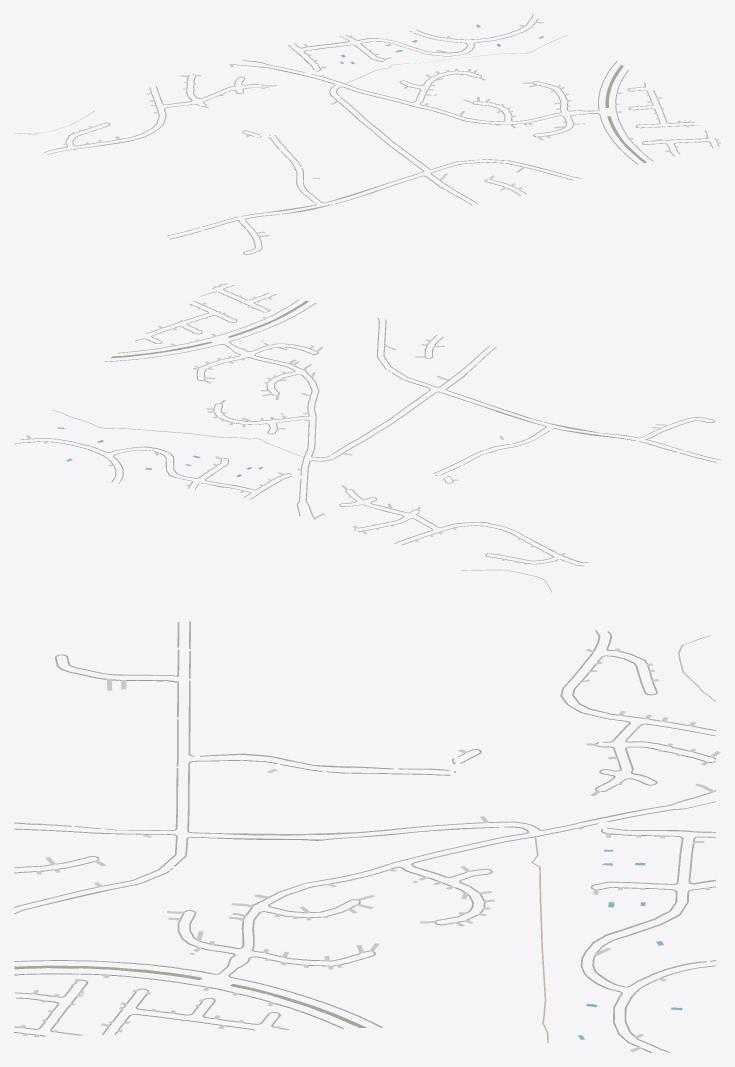
Rendered from ground_r3_c1.glb.
3 views of the same model, one above another, from view 1: azimuth 30°, elevation 25°; view 2: azimuth 150°, elevation 25°; view 3: azimuth 270°, elevation 25° (orthographic). The views are drawn at different scales.
Visible parts, largest first — view 1: sidewalks, driveways; view 2: sidewalks, driveways; view 3: sidewalks, driveways, medians.
Boxes of the visible parts, x1=… form: sidewalks: x1=44, y1=14, x2=719, y2=254; driveways: x1=64, y1=21, x2=720, y2=237; sidewalks: x1=14, y1=283, x2=720, y2=566; driveways: x1=26, y1=284, x2=668, y2=564; sidewalks: x1=14, y1=621, x2=715, y2=1052; driveways: x1=20, y1=648, x2=720, y2=1051; medians: x1=14, y1=965, x2=366, y2=1027.
Size of the model in its own units: 1129 by 52.6 by 793.
